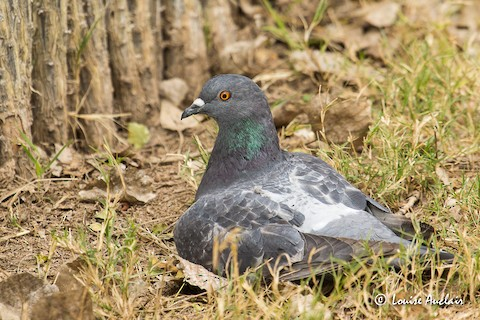pigeon: (170, 67, 458, 288)
